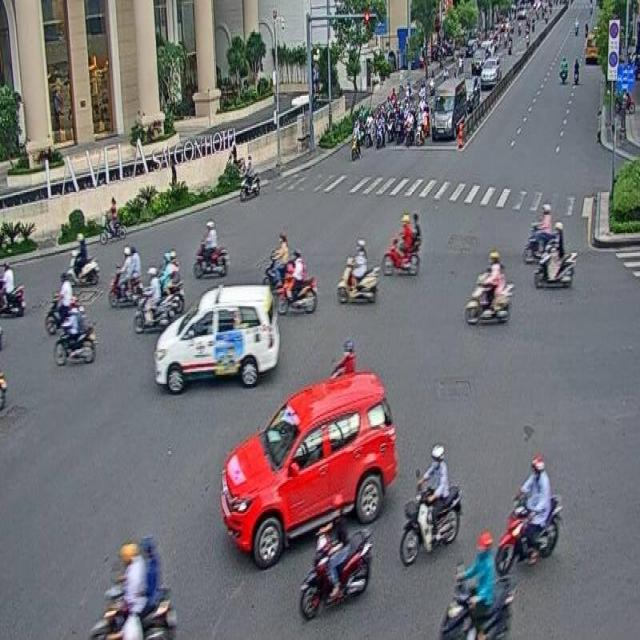car: (220, 372, 397, 571), (154, 285, 279, 396)
motorcycle: (494, 454, 562, 576), (398, 444, 461, 566), (464, 248, 514, 326), (534, 221, 578, 288), (336, 238, 380, 303), (381, 212, 422, 277)
